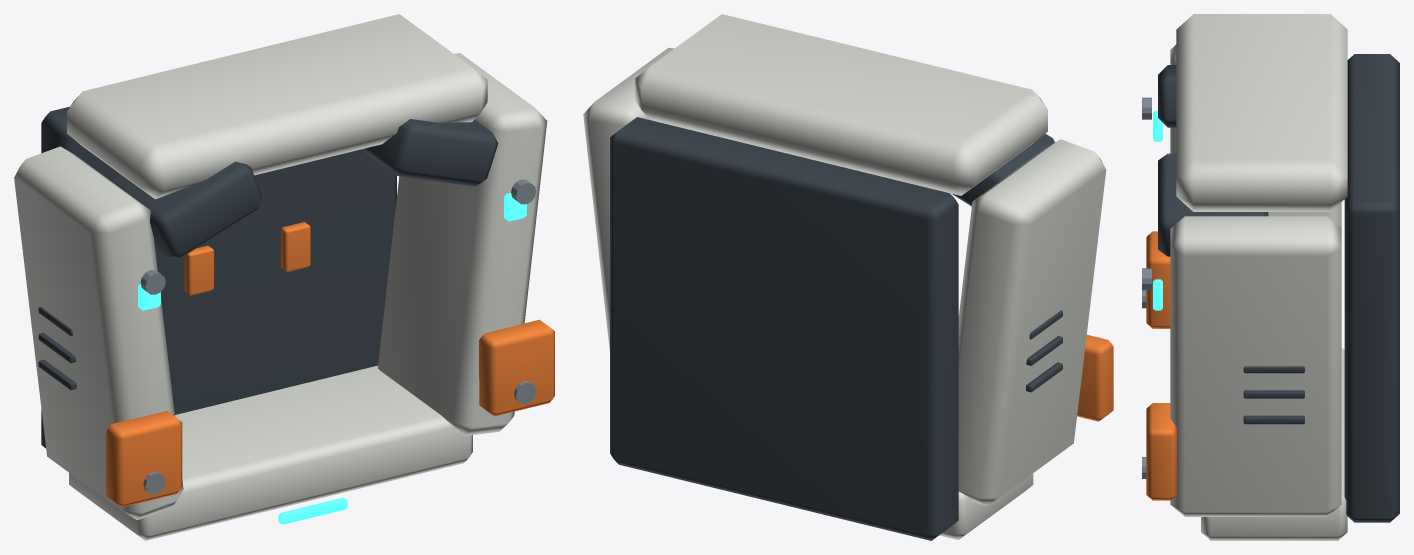
The model's file is VXDR_INTERCEPT_v002_BACKPACK.fbx.
3 renders of one model, left to right at view 1: azimuth 30°, elevation 25°; view 2: azimuth 150°, elevation 25°; view 3: azimuth 270°, elevation 25°, orthographic. The views are drawn at different scales.
Parts seen in each view (by area): view 1: Top bridge, Body mounting plate, Cradle armored rail, Cradle armored rail.001, Bottom charging bridge, Angled cradle brow, Angled cradle brow.001, Rail orange latch, Rail orange latch.001, Charge contact, Charge contact.001, Charge indicator; view 2: Body mounting plate, Top bridge, Cradle armored rail, Cradle armored rail.001, Rail orange latch, Bottom charging bridge, Angled cradle brow; view 3: Cradle armored rail.001, Top bridge, Body mounting plate, Bottom charging bridge, Rail orange latch.001, Angled cradle brow.001, Rail orange latch, Angled cradle brow, Cradle armored rail, Rail vent.003, Rail vent.004, Rail vent.005.
Boxes of the visible parts, x1,y1,x2,y2 form: Top bridge: [67, 14, 487, 199]; Body mounting plate: [41, 106, 396, 448]; Cradle armored rail: [14, 146, 183, 520]; Cradle armored rail.001: [378, 53, 547, 435]; Bottom charging bridge: [69, 365, 472, 540]; Angled cradle brow: [112, 161, 262, 258]; Angled cradle brow.001: [361, 119, 498, 186]; Rail orange latch: [106, 411, 182, 507]; Rail orange latch.001: [479, 319, 554, 416]; Charge contact: [184, 245, 214, 295]; Charge contact.001: [281, 222, 310, 272]; Charge indicator: [278, 497, 347, 524]; Body mounting plate: [610, 117, 958, 540]; Top bridge: [635, 14, 1047, 195]; Cradle armored rail: [958, 139, 1106, 505]; Cradle armored rail.001: [583, 47, 674, 351]; Rail orange latch: [1077, 334, 1113, 421]; Bottom charging bridge: [939, 473, 1033, 539]; Angled cradle brow: [951, 133, 1054, 206]; Cradle armored rail.001: [1170, 216, 1341, 516]; Top bridge: [1176, 14, 1347, 211]; Body mounting plate: [1344, 54, 1399, 522]; Bottom charging bridge: [1201, 348, 1347, 540]; Rail orange latch.001: [1146, 403, 1176, 500]; Angled cradle brow.001: [1158, 153, 1268, 256]; Rail orange latch: [1146, 231, 1170, 328]; Angled cradle brow: [1158, 65, 1176, 127]; Cradle armored rail: [1170, 44, 1341, 228]; Rail vent.003: [1243, 415, 1304, 424]; Rail vent.004: [1243, 390, 1304, 398]; Rail vent.005: [1243, 366, 1304, 373].
Size of the model in its own units: 40.81 by 35 by 21.05.
